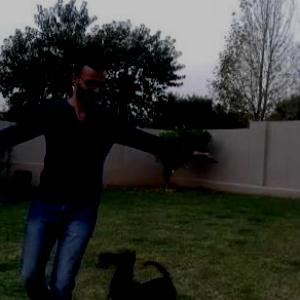land: (0, 67, 175, 295)
